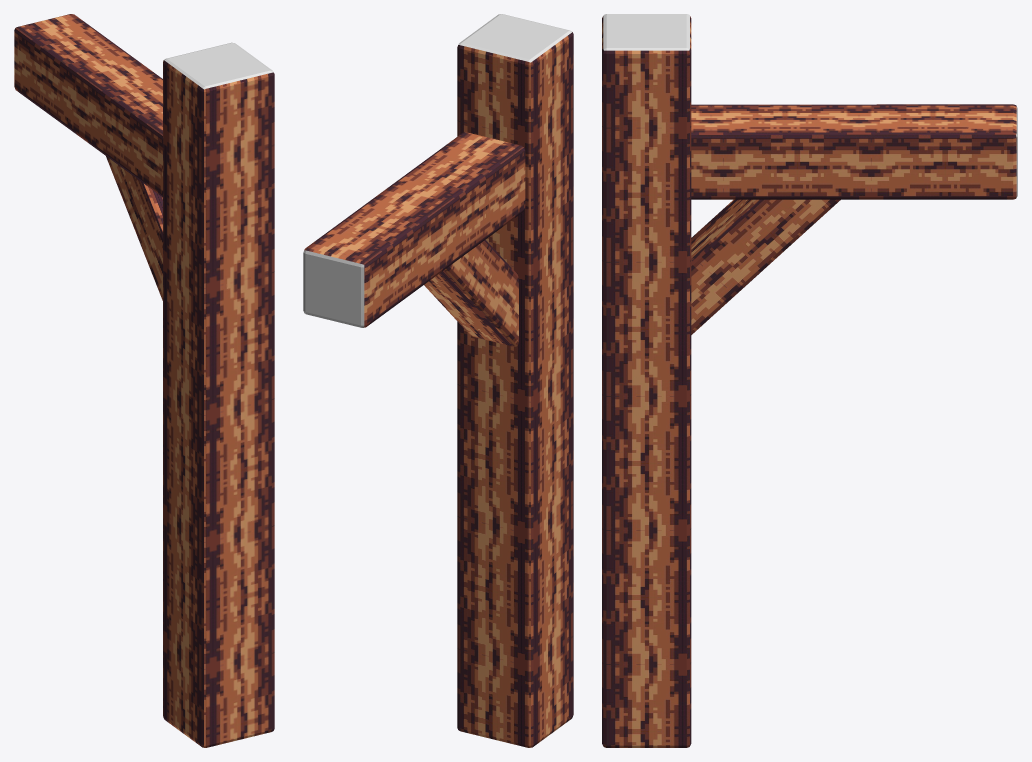
The model's file is PosteMadera 01.fbx.
The picture shows the model from 3 angles, left to right: view 1: azimuth 30°, elevation 25°; view 2: azimuth 150°, elevation 25°; view 3: azimuth 270°, elevation 25°; orthographic projection. The views are drawn at different scales.
Visible parts, largest first — view 1: PosteMadera.001; view 2: PosteMadera.001; view 3: PosteMadera.001.
Part boxes in pixels (bbox=[...]): PosteMadera.001: bbox=[14, 14, 274, 747]; PosteMadera.001: bbox=[303, 14, 573, 747]; PosteMadera.001: bbox=[602, 14, 1017, 747].
Size of the model in its own units: 0.3 by 1.4 by 2.6.
